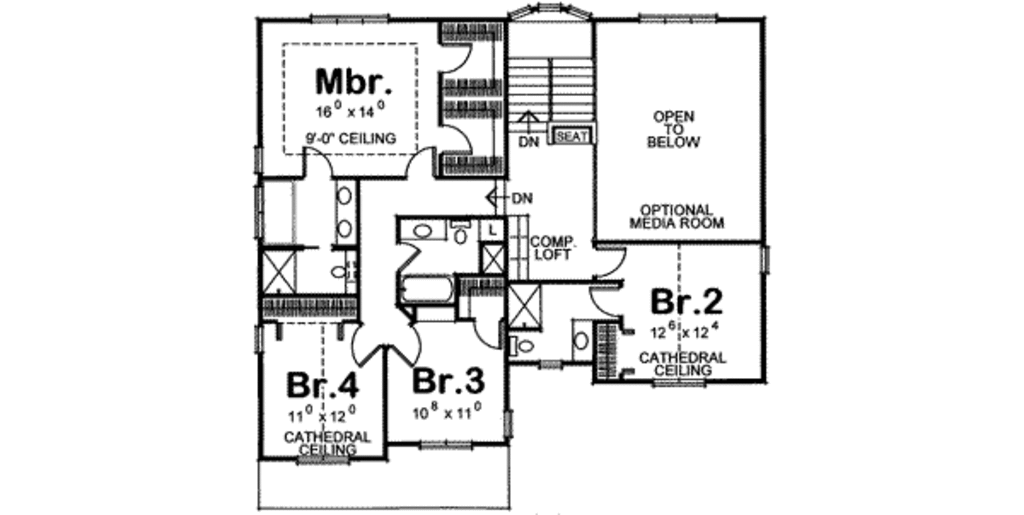door: (589, 237, 635, 281), (382, 321, 425, 368), (589, 281, 630, 319), (300, 142, 342, 177), (352, 320, 380, 372), (397, 145, 439, 179), (436, 120, 478, 154), (472, 312, 505, 353), (439, 38, 471, 74), (395, 238, 421, 271)
large_sink: (328, 261, 363, 287), (451, 216, 478, 247), (508, 335, 540, 357)
small_sink: (330, 176, 359, 248), (566, 318, 599, 361), (395, 214, 449, 240)
stairs: (502, 43, 598, 143)
tub: (260, 176, 298, 246), (400, 273, 462, 303)
window: (415, 430, 478, 455), (308, 12, 393, 26), (498, 408, 528, 445), (638, 12, 716, 25), (655, 374, 709, 391), (291, 451, 352, 466), (758, 245, 778, 277)
